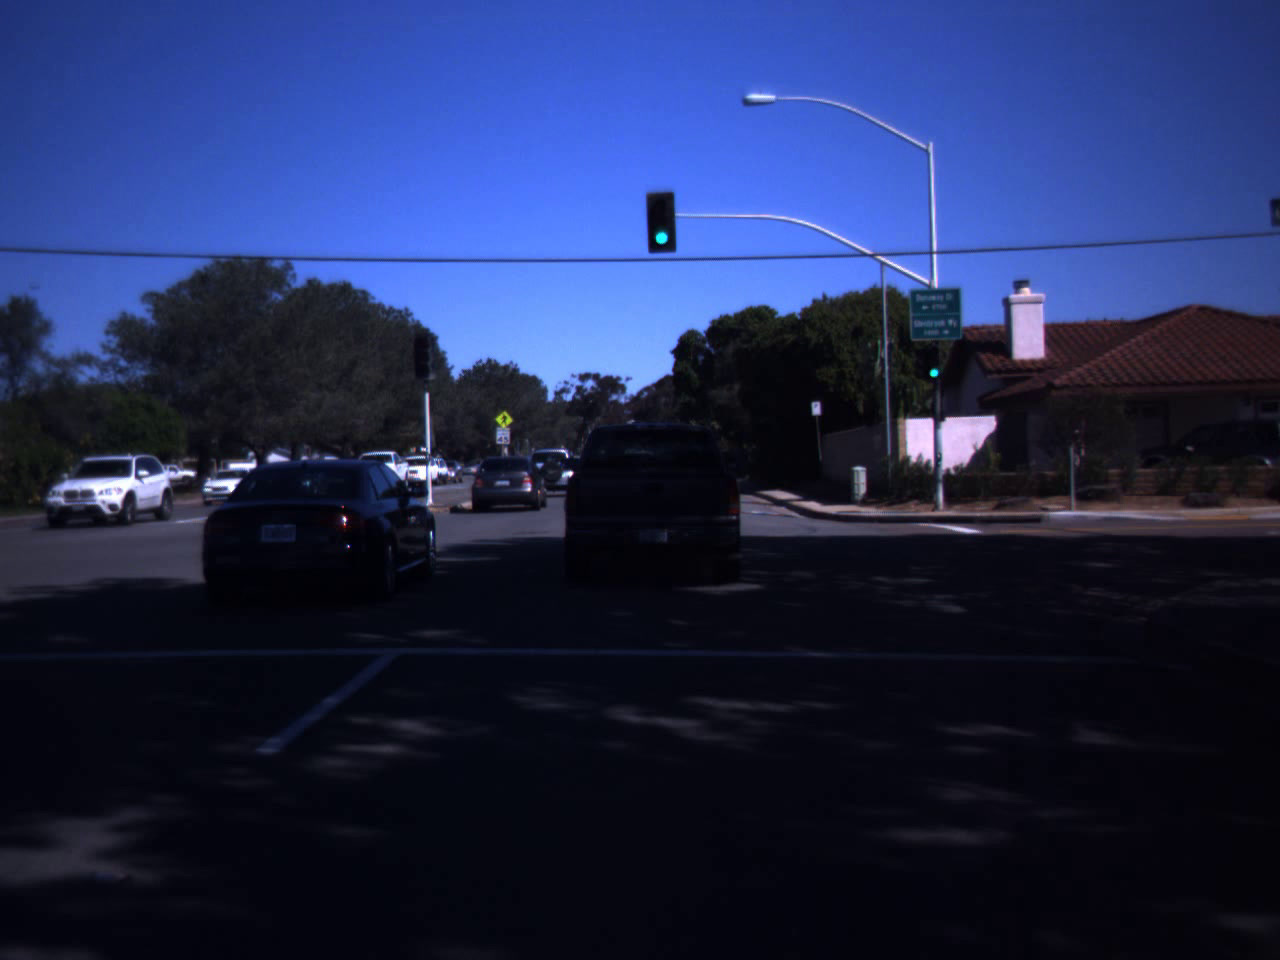go: (645, 196, 678, 246), (928, 349, 946, 379)
